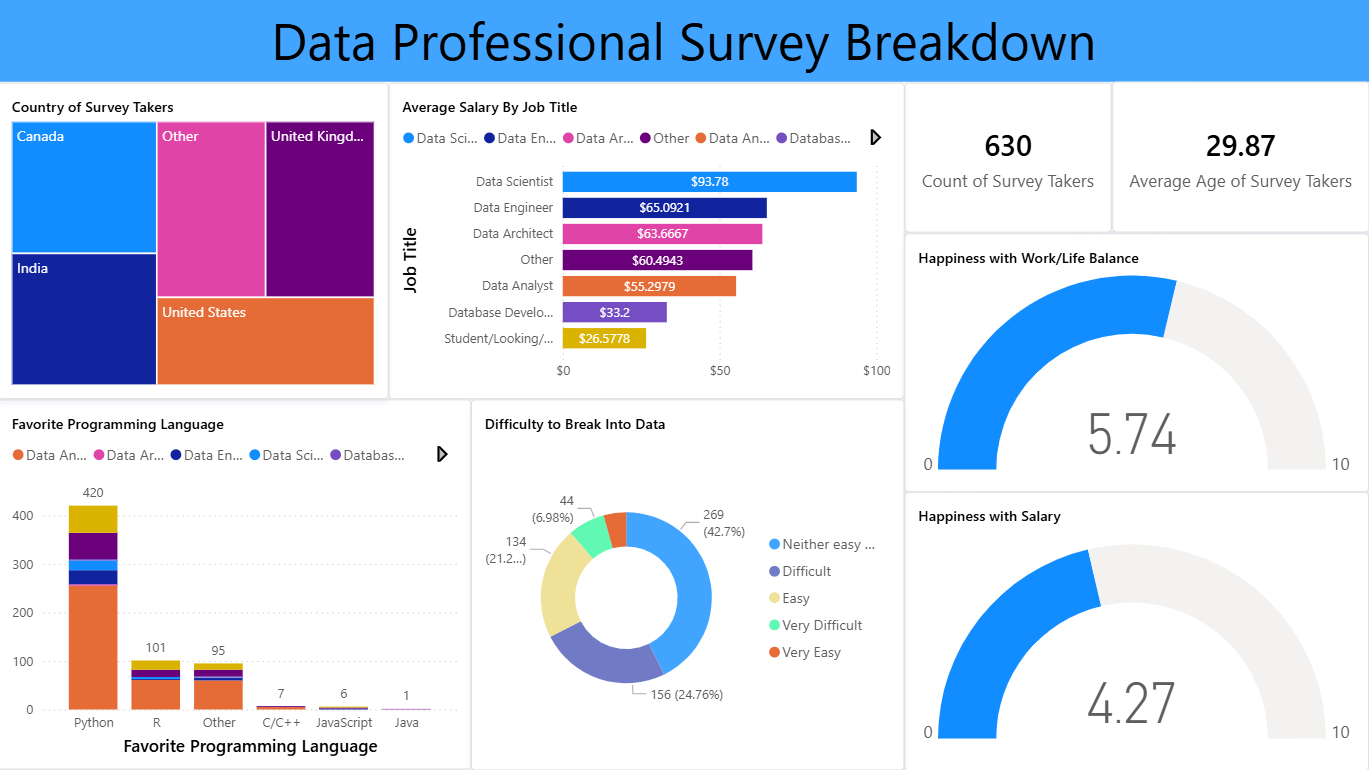

The dashboard page shown, as its layout file describes it:
{"tool":"powerbi","page":{"name":"Page 1","canvas":[1280,720],"ordinal":0},"visuals":[{"type":"textbox","box":[0,0,1280.3,77.3],"z":0},{"type":"card","fields":{"Values":["Count(Data Professional Survey.Unique ID)"]},"box":[846.3,78.3,193.9,140],"z":1000},{"type":"card","fields":{"Values":["Avg(Data Professional Survey.Q10 - Current Age)"]},"box":[1040.2,77.1,240.1,141.3],"z":2000},{"type":"barChart","title":"Average Salary By Job Title","fields":{"Category":["Data Professional Survey.Q1 - Which Title Best Fits your Current Role?"],"Y":["Avg(Data Professional Survey.Average Salary)"],"Series":["Data Professional Survey.Q1 - Which Title Best Fits your Current Role?"]},"box":[364.7,78.3,481.6,295.4],"z":3000},{"type":"columnChart","title":"Favorite Programming Language","fields":{"Category":["Data Professional Survey.Q5 - Favorite Programming Language"],"Y":["CountNonNull(Data Professional Survey.Unique ID)"],"Series":["Data Professional Survey.Q1 - Which Title Best Fits your Current Role?"]},"box":[0,373.7,441.8,345.5],"z":4000},{"type":"treemap","title":"Country of Survey Takers","fields":{"Group":["Data Professional Survey.Q11 - Which Country do you live in?"],"Values":["Count(Data Professional Survey.Q11 - Which Country do you live in?)"]},"box":[0,78.3,364.7,295.4],"z":5000},{"type":"gauge","title":"Happiness with Work/Life Balance","fields":{"Y":["Avg(Data Professional Survey.Q6 - How Happy are you in your Current Position with the following? (Work/Life Balance))"],"MinValue":["Min(Data Professional Survey.Q6 - How Happy are you in your Current Position with the following? (Work/Life Balance))"],"MaxValue":["Max(Data Professional Survey.Q6 - How Happy are you in your Current Position with the following? (Work/Life Balance))"]},"box":[846.3,218.3,434.1,241.4],"z":6000},{"type":"gauge","title":"Happiness with Salary","fields":{"Y":["Avg(Data Professional Survey.Q6 - How Happy are you in your Current Position with the following? (Salary))"],"MinValue":["Min(Data Professional Survey.Q6 - How Happy are you in your Current Position with the following? (Salary))"],"MaxValue":["Max(Data Professional Survey.Q6 - How Happy are you in your Current Position with the following? (Salary))"]},"box":[846.3,459.7,434.1,260.7],"z":7000},{"type":"donutChart","title":"Difficulty to Break Into Data","fields":{"Category":["Data Professional Survey.Q7 - How difficult was it for you to break into Data?"],"Y":["CountNonNull(Data Professional Survey.Q7 - How difficult was it for you to break into Data?)"]},"box":[441.8,373.7,404.5,346.7],"z":8000}]}

Visuals, with their boxes in screenshot pixels (x1, y1, x2, y2), scaled from the page's 1280x720 canvas onto the 1369x770 screenshot:
textbox: [x1=0, y1=0, x2=1368, y2=83]
card - Count(Data Professional Survey.Unique ID): [x1=905, y1=84, x2=1113, y2=233]
card - Avg(Data Professional Survey.Q10 - Current Age): [x1=1113, y1=82, x2=1368, y2=234]
"Average Salary By Job Title" barChart: [x1=390, y1=84, x2=905, y2=400]
"Favorite Programming Language" columnChart: [x1=0, y1=400, x2=473, y2=769]
"Country of Survey Takers" treemap: [x1=0, y1=84, x2=390, y2=400]
"Happiness with Work/Life Balance" gauge: [x1=905, y1=233, x2=1368, y2=492]
"Happiness with Salary" gauge: [x1=905, y1=492, x2=1368, y2=769]
"Difficulty to Break Into Data" donutChart: [x1=473, y1=400, x2=905, y2=769]
